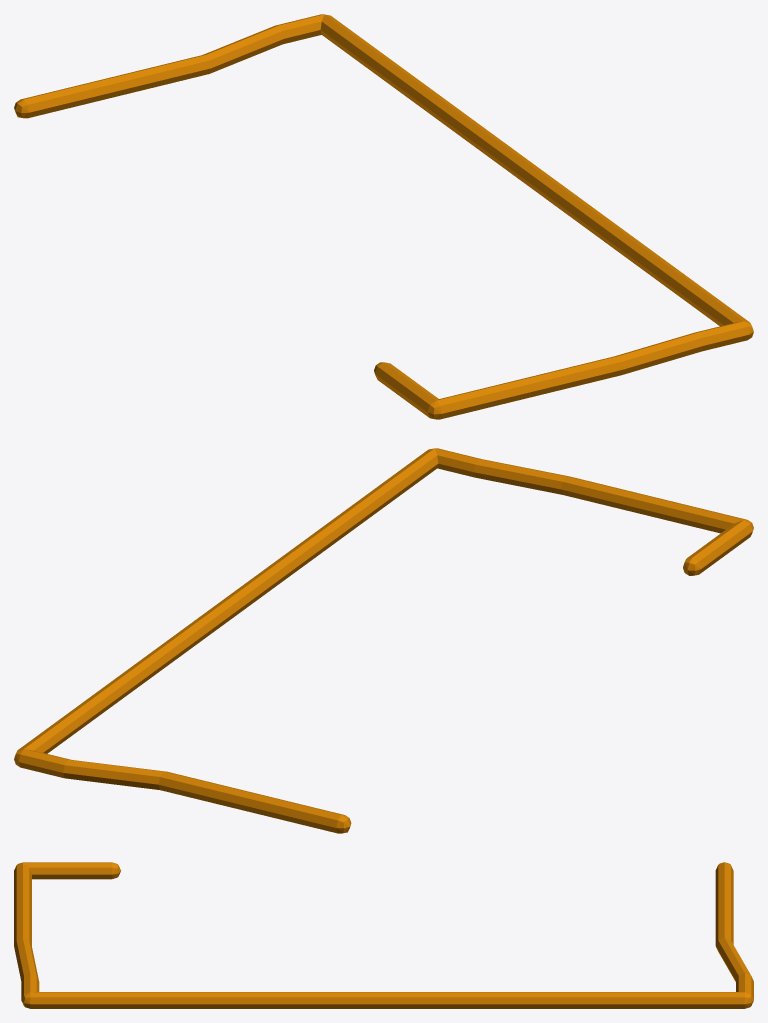
3 views of the same model, one above another, from view 1: azimuth 30°, elevation 25°; view 2: azimuth 150°, elevation 25°; view 3: azimuth 270°, elevation 25° (orthographic). The views are drawn at different scales.
Bounding box in the file's own units: 364 × 20 × 828.
